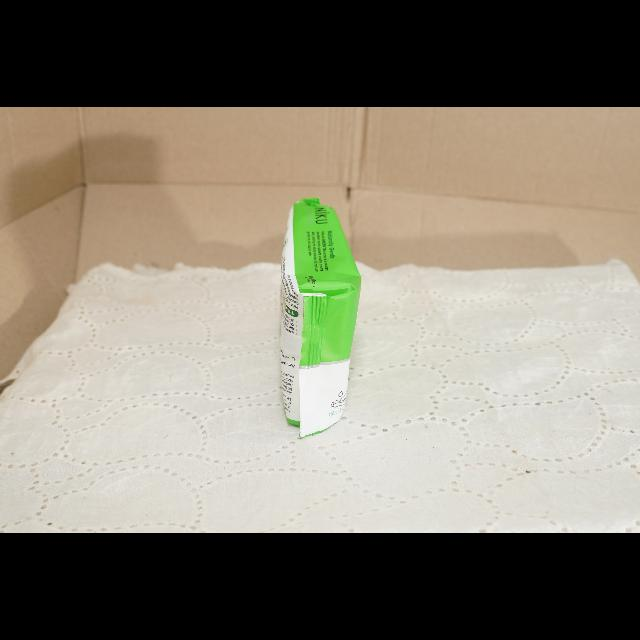khan_giay: (280, 199, 361, 437)
